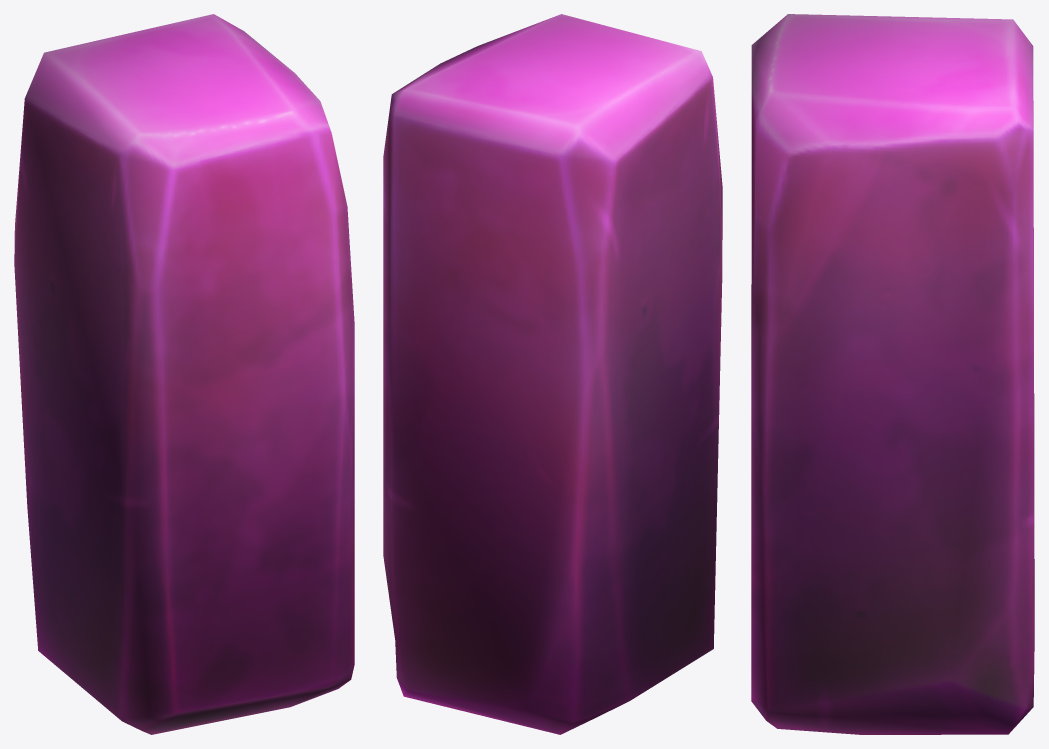
Rendered from SM_Gem_Kunzite_003.fbx.
3 renders of one model, left to right at view 1: azimuth 30°, elevation 25°; view 2: azimuth 150°, elevation 25°; view 3: azimuth 270°, elevation 25°, orthographic. The views are drawn at different scales.
Parts seen in each view (by area): view 1: SM_Gem_Kunzite_003; view 2: SM_Gem_Kunzite_003; view 3: SM_Gem_Kunzite_003.
Boxes of the visible parts, x1,y1,x2,y2 form: SM_Gem_Kunzite_003: (14,14,354,734); SM_Gem_Kunzite_003: (383,14,722,734); SM_Gem_Kunzite_003: (751,14,1034,734).
Bounding box in the file's own units: 18.09 × 47.25 × 19.3.
